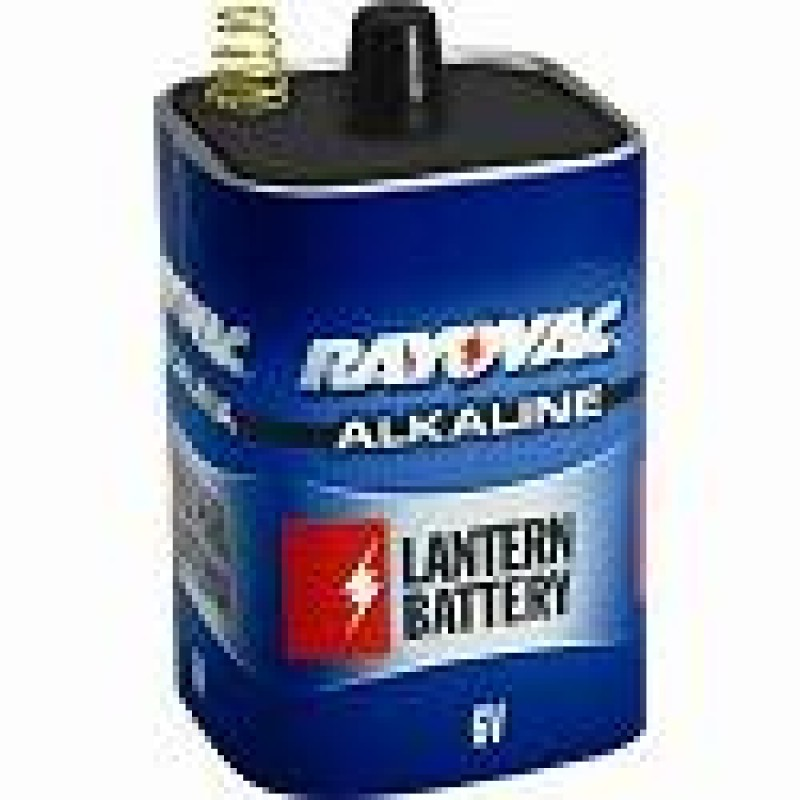6V: (149, 11, 680, 783)
